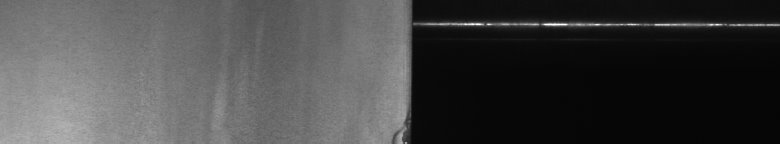hb: (392, 125, 400, 136)
